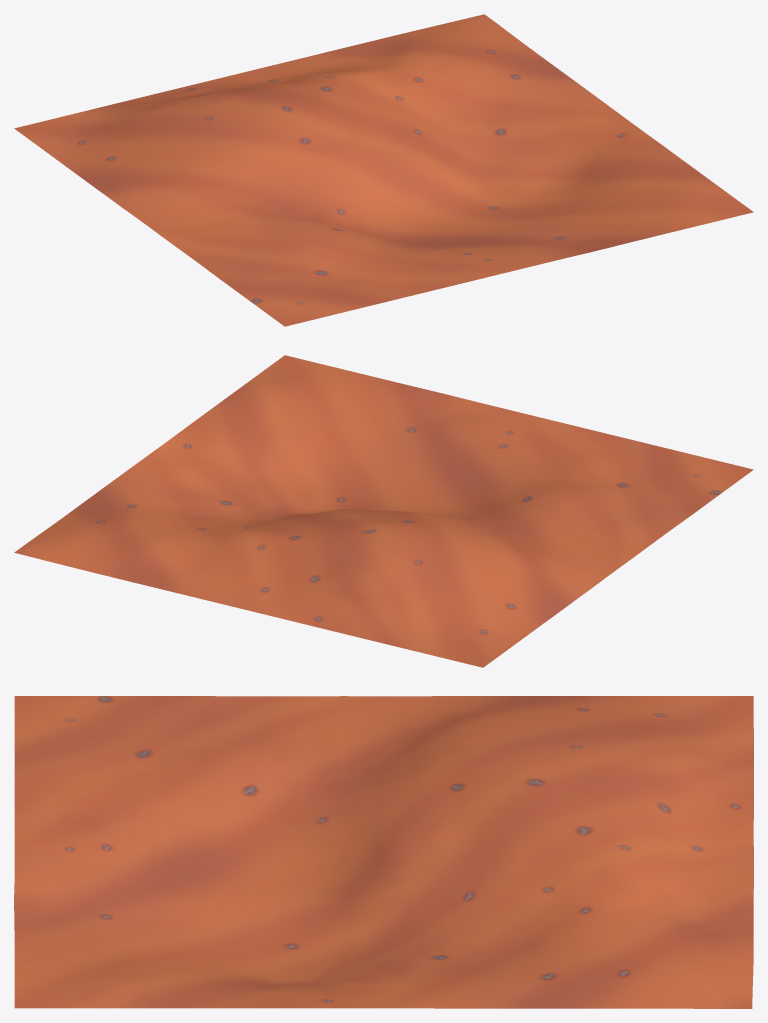
The model's file is SM_SandGeoDecal_01.fbx.
3 renders of one model, top to bottom at view 1: azimuth 30°, elevation 25°; view 2: azimuth 150°, elevation 25°; view 3: azimuth 270°, elevation 25°, orthographic. The views are drawn at different scales.
Parts seen in each view (by area): view 1: SM_SandGéoDeca_01; view 2: SM_SandGéoDeca_01; view 3: SM_SandGéoDeca_01.
Boxes of the visible parts, x1,y1,x2,y2 form: SM_SandGéoDeca_01: (14, 14, 753, 326); SM_SandGéoDeca_01: (14, 355, 753, 667); SM_SandGéoDeca_01: (14, 696, 753, 1008).
Bounding box in the file's own units: 401 × 53.66 × 400.
